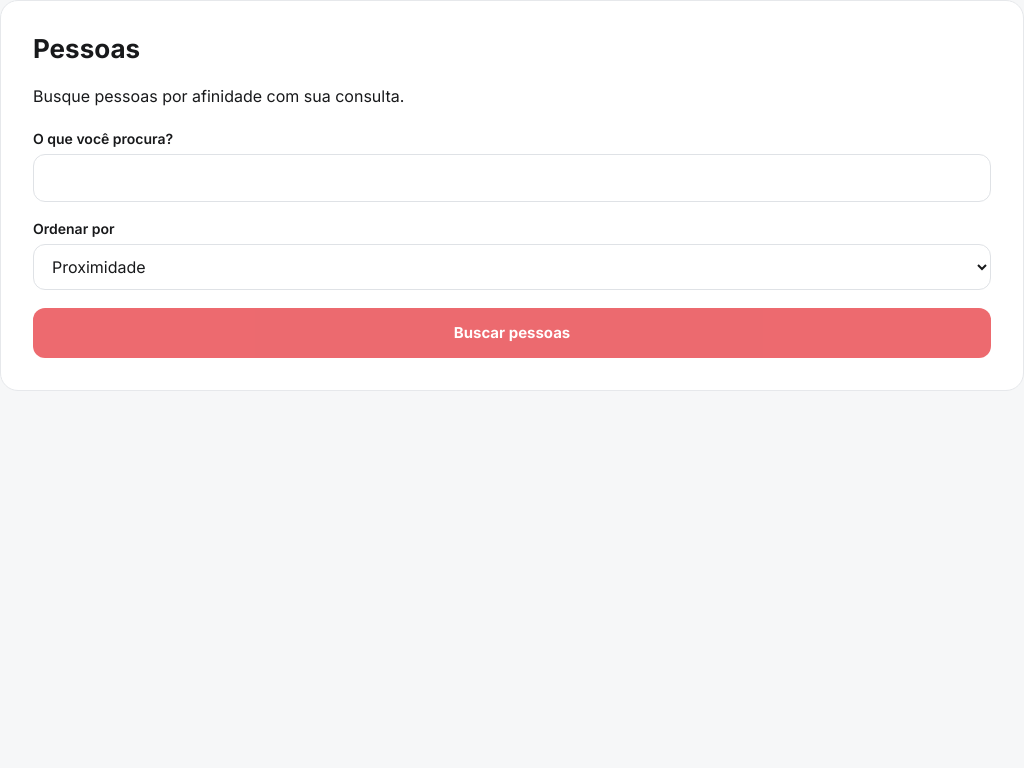
Test: representa vínculo pending de ana
Type "tecnologia" into the field labelled "O que você procura?" at x=512, y=178, box x1=33 y1=154 x2=991 y2=202
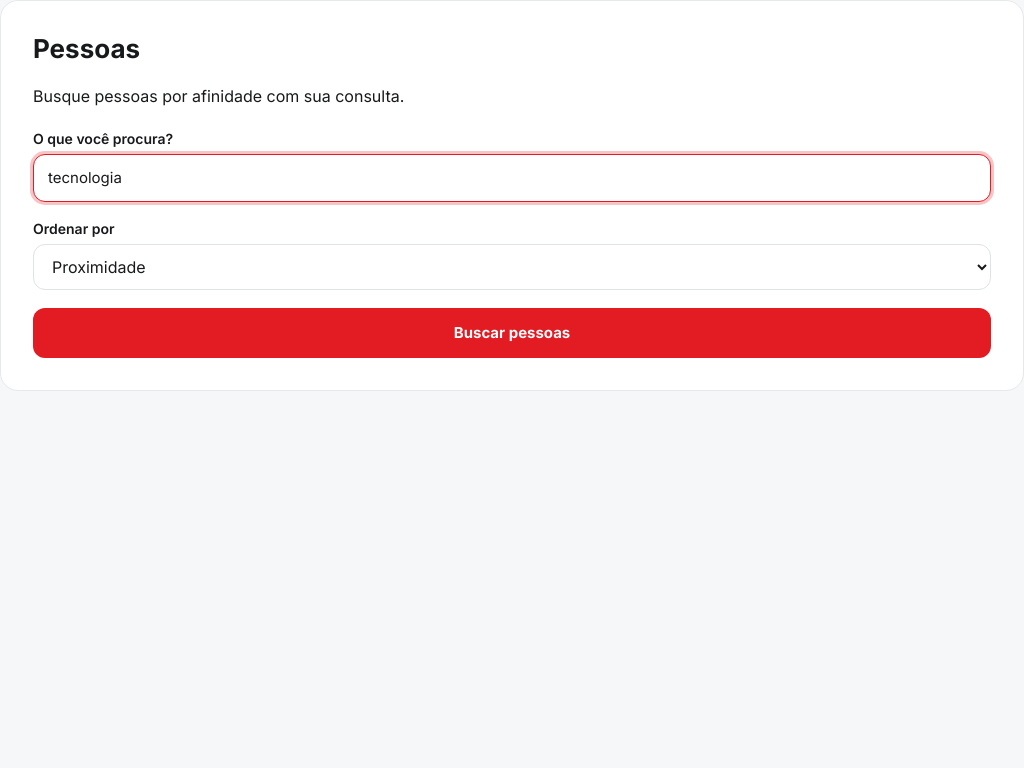
Click the button "Buscar pessoas" at x=512, y=333, box x1=33 y1=308 x2=991 y2=358
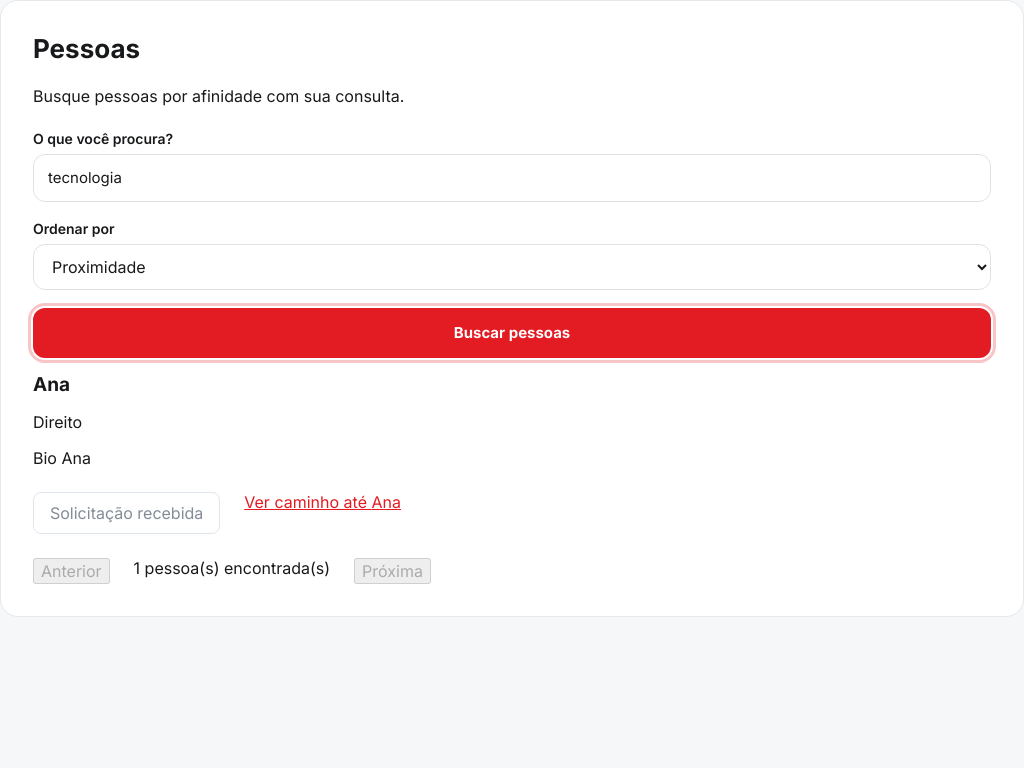
Check: the heading "Ana" is shown, box x1=33 y1=373 x2=70 y2=396
Check: the button "Solicitação recebida" is disabled, box x1=33 y1=492 x2=220 y2=534
